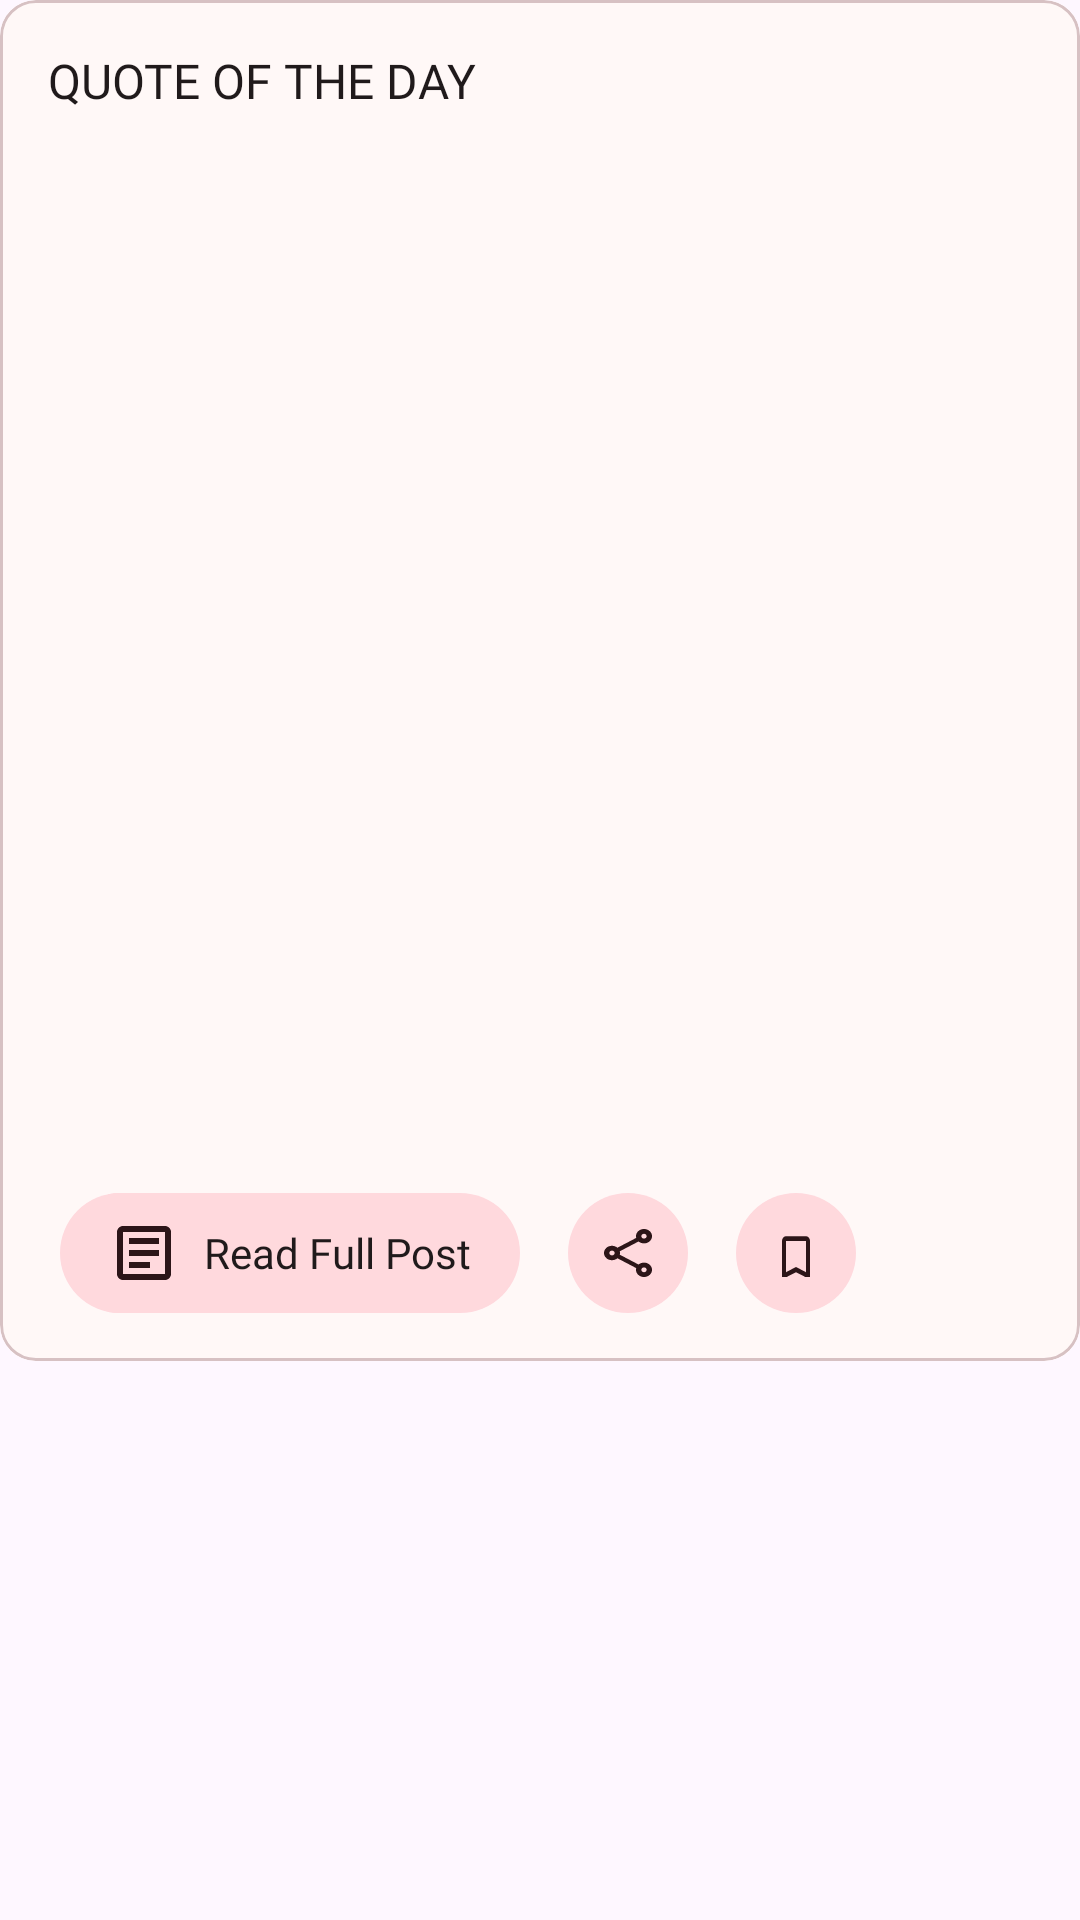

Icon click points for this 1080 × 1920 phone screenshot, format (x=x, y=y):
article: (x=144, y=1253)
bookmark: (x=796, y=1253)
share: (x=628, y=1253)
